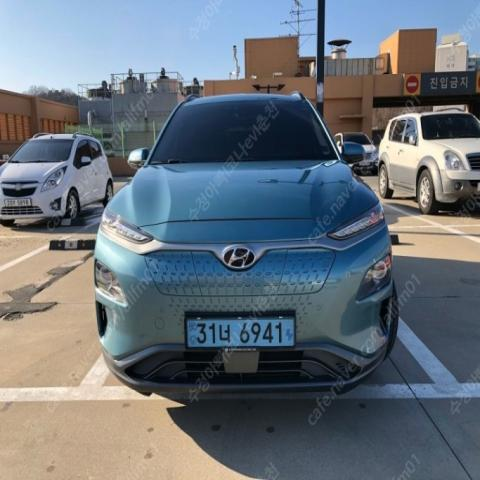LP: (174, 306, 300, 355)
